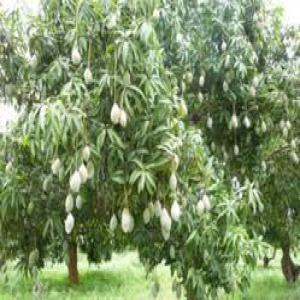Tree: (4, 0, 295, 295)
